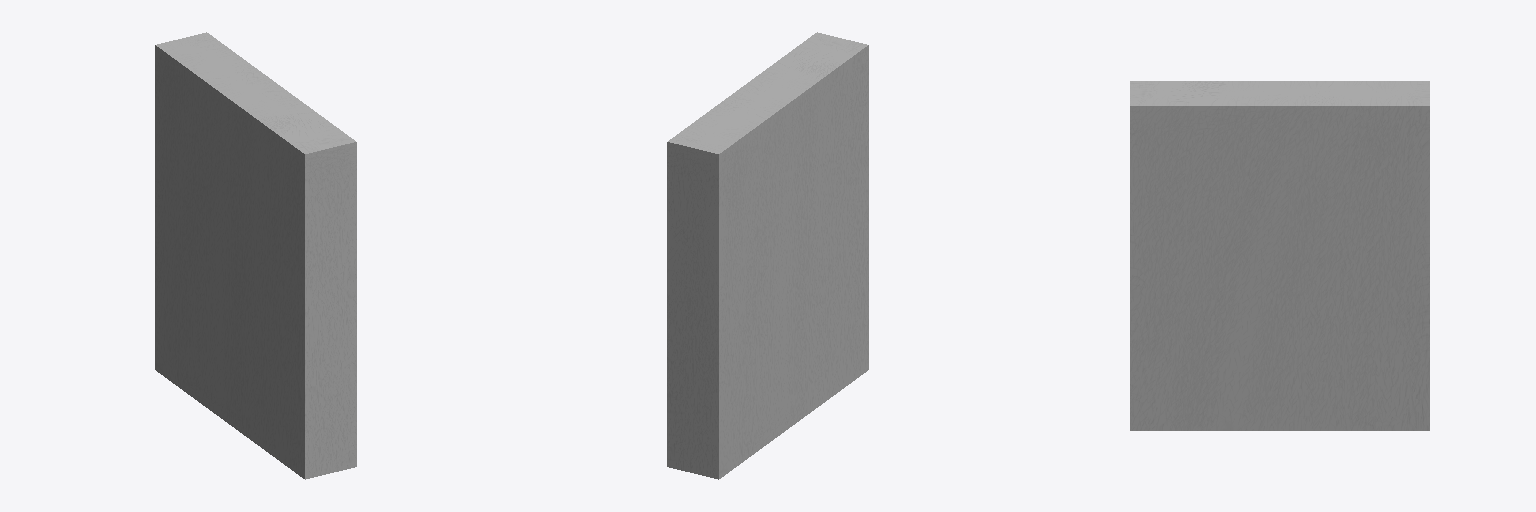
The picture shows the model from 3 angles: view 1: azimuth 30°, elevation 25°; view 2: azimuth 150°, elevation 25°; view 3: azimuth 270°, elevation 25°; orthographic projection.
Parts seen in each view (by area): view 1: Wall.NR2.006_Cube.026; view 2: Wall.NR2.006_Cube.026; view 3: Wall.NR2.006_Cube.026.
Boxes of the visible parts, x1=… form: Wall.NR2.006_Cube.026: x1=155, y1=32, x2=356, y2=479; Wall.NR2.006_Cube.026: x1=667, y1=32, x2=868, y2=479; Wall.NR2.006_Cube.026: x1=1130, y1=81, x2=1429, y2=430.
Size of the model in its own units: 1 by 6 by 5.
1 materials, 1 textured.